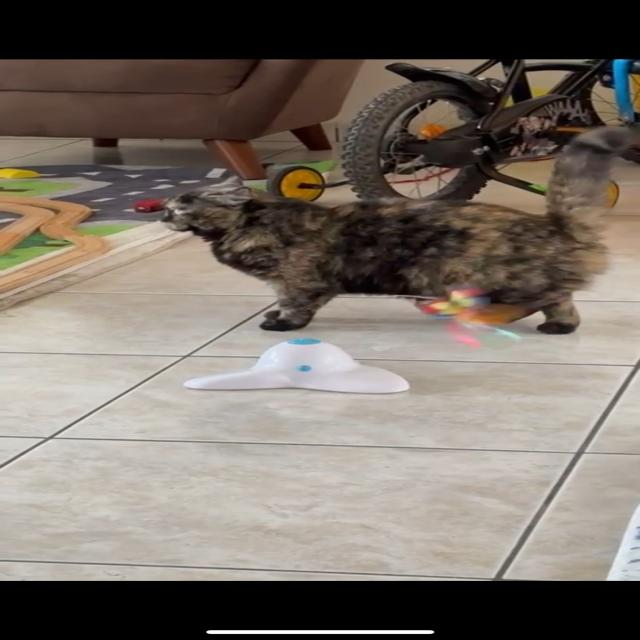authorized: (157, 125, 635, 335)
